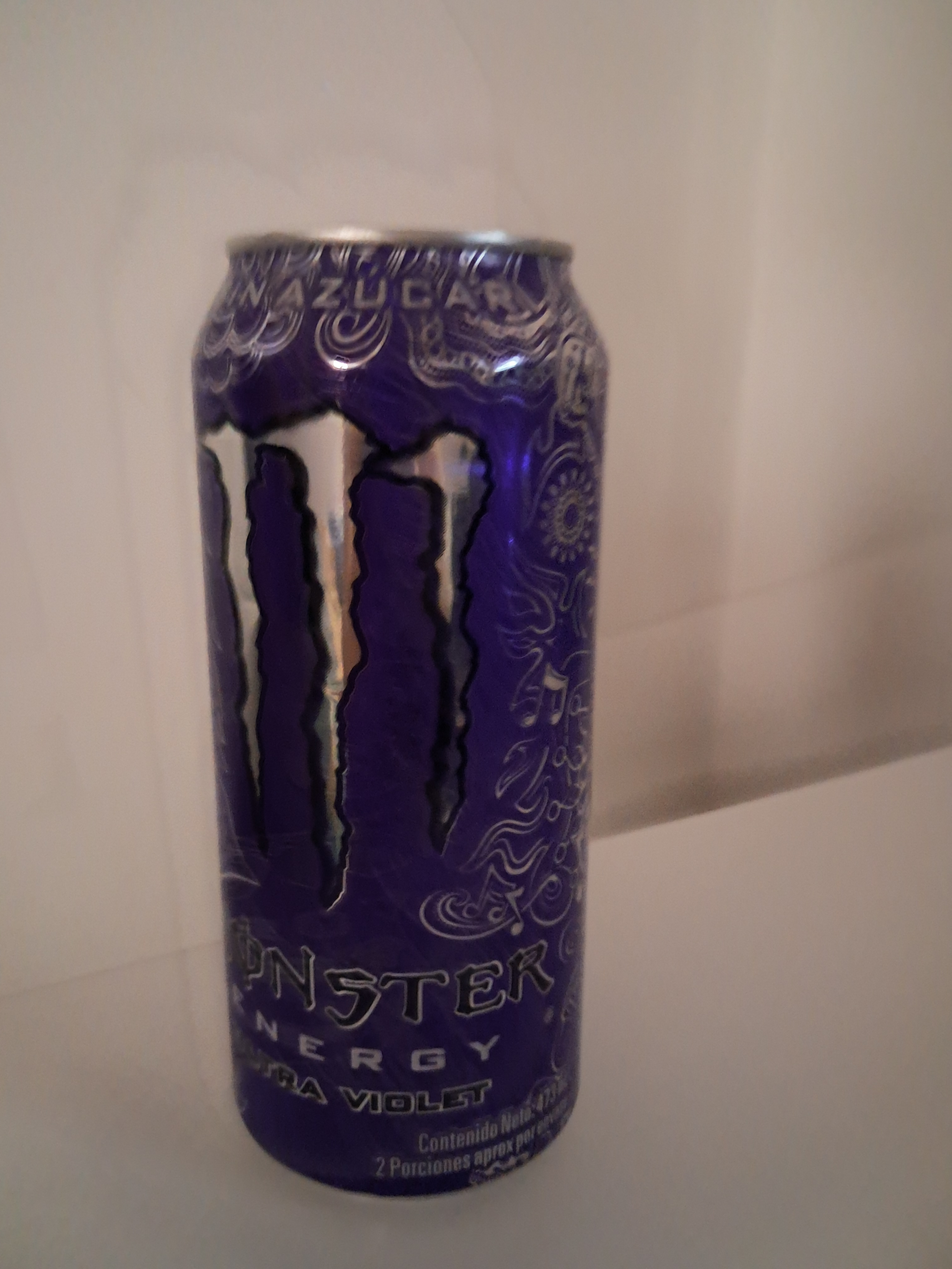energy_drink: (193, 233, 606, 1196)
